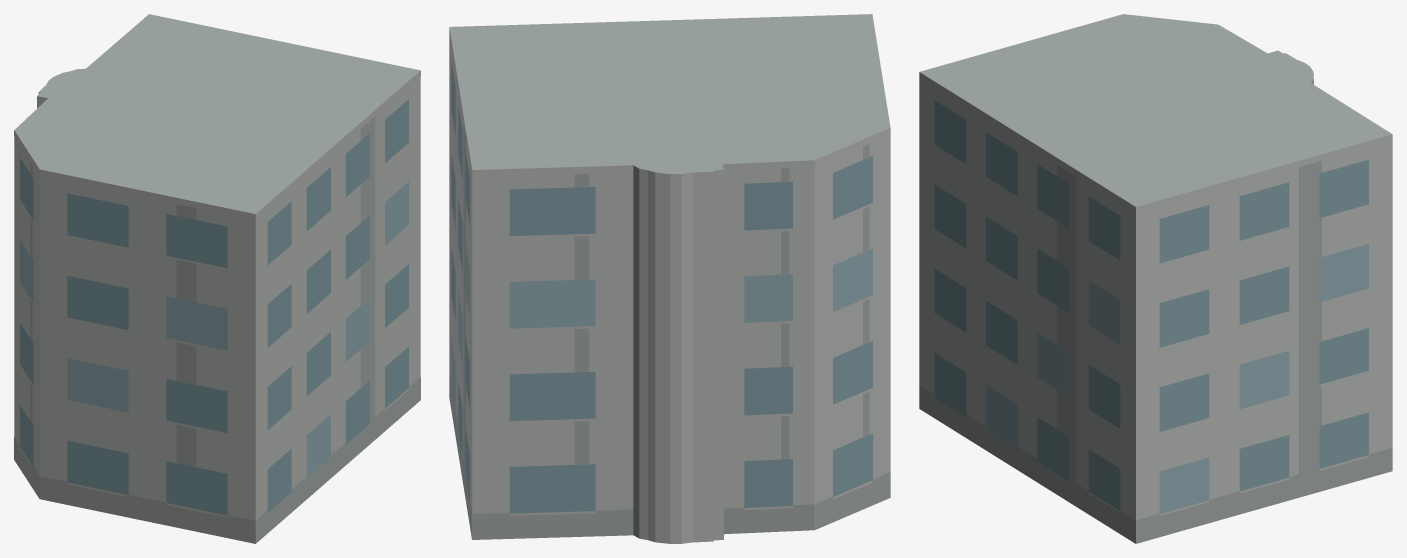
The model's file is residential-bc539d8f-8b9b-45d6-8d3f-2c74b9dbe474.glb.
3 renders of one model, left to right at view 1: azimuth 30°, elevation 25°; view 2: azimuth 150°, elevation 25°; view 3: azimuth 270°, elevation 25°, orthographic. The views are drawn at different scales.
Visible parts, largest first — view 1: residential-bc539d8f-8b9b-45d6-8d3f-2c74b9dbe474.tmp; view 2: residential-bc539d8f-8b9b-45d6-8d3f-2c74b9dbe474.tmp; view 3: residential-bc539d8f-8b9b-45d6-8d3f-2c74b9dbe474.tmp.
Part boxes in pixels (x1,y1,x2,y2): residential-bc539d8f-8b9b-45d6-8d3f-2c74b9dbe474.tmp: [14, 14, 420, 543]; residential-bc539d8f-8b9b-45d6-8d3f-2c74b9dbe474.tmp: [449, 14, 890, 543]; residential-bc539d8f-8b9b-45d6-8d3f-2c74b9dbe474.tmp: [919, 14, 1392, 543].
Size of the model in its own units: 15.73 by 12.8 by 16.31.
